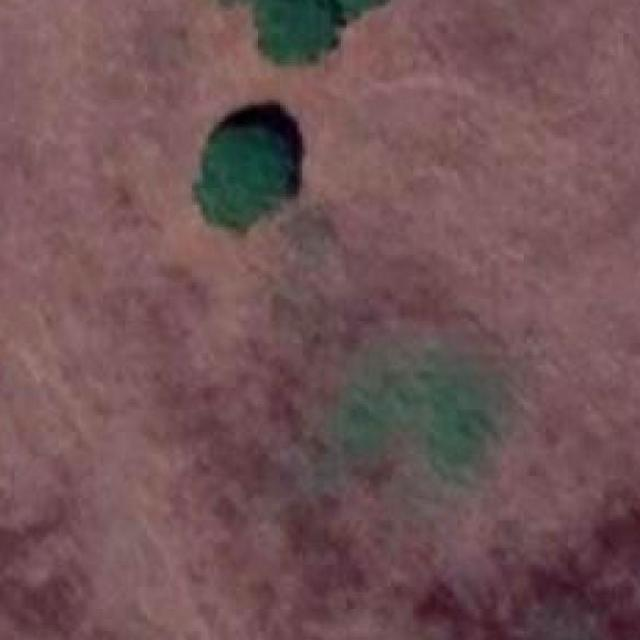Tree: (205, 122, 282, 225), (258, 0, 330, 58), (319, 0, 394, 11)
